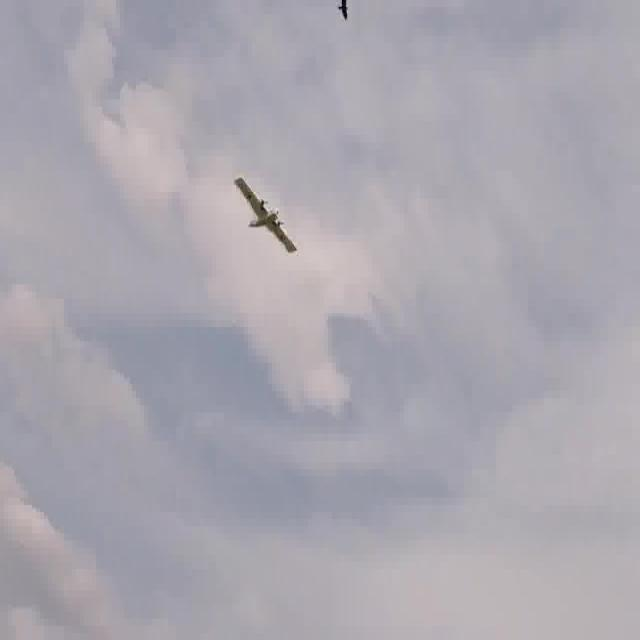iha: (257, 202, 262, 230)
